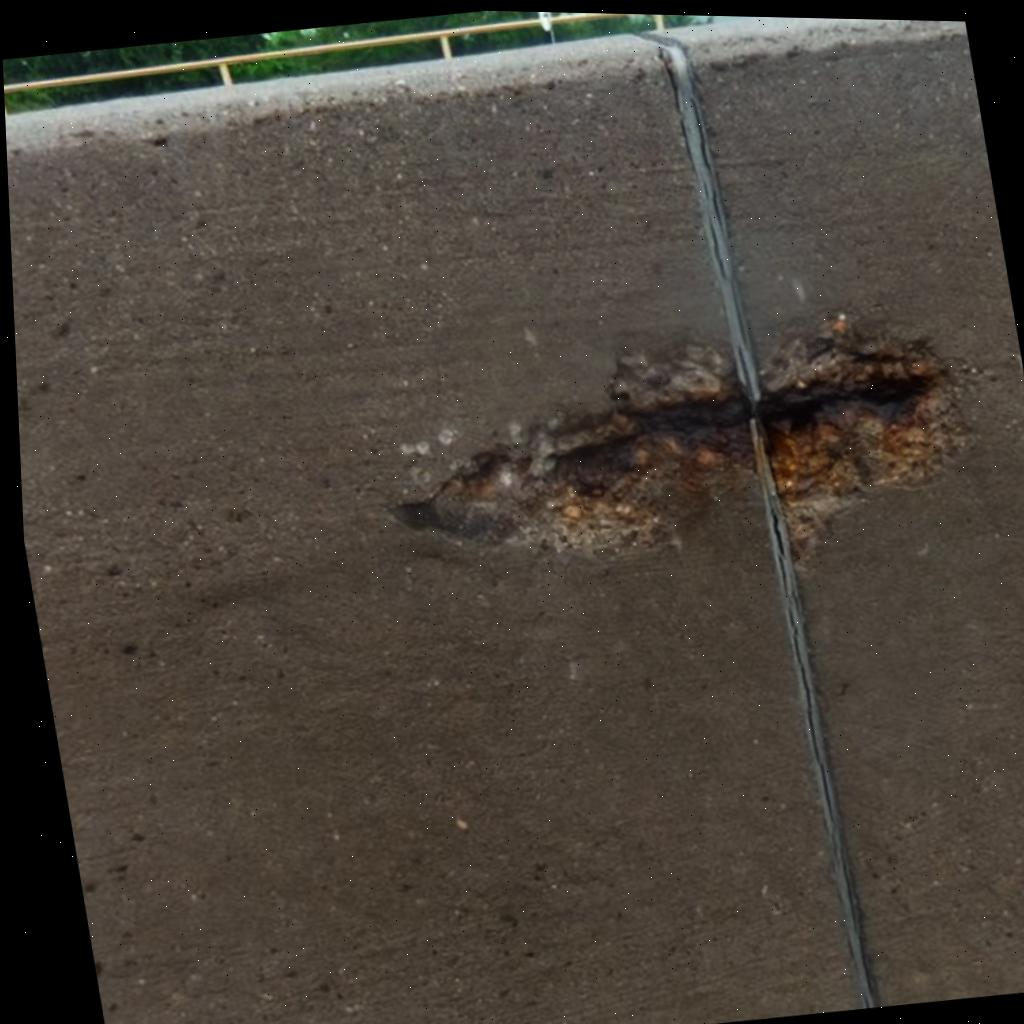spalling: (398, 346, 754, 549), (761, 330, 961, 548)
